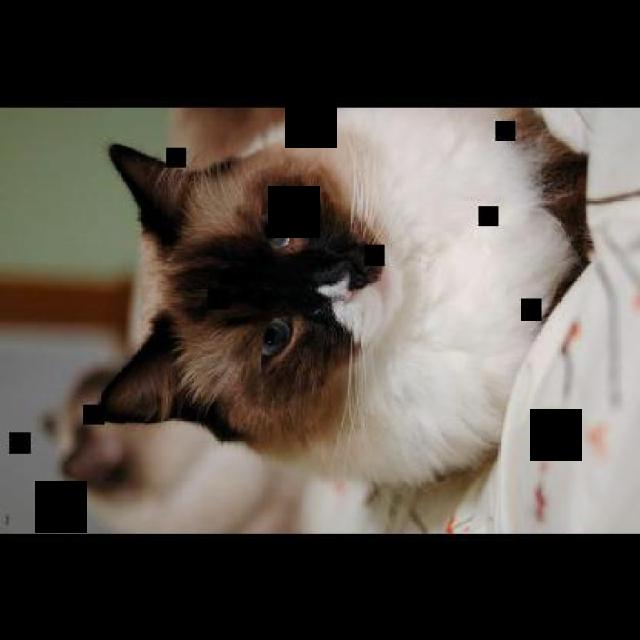unauthorized: (88, 105, 594, 523)
